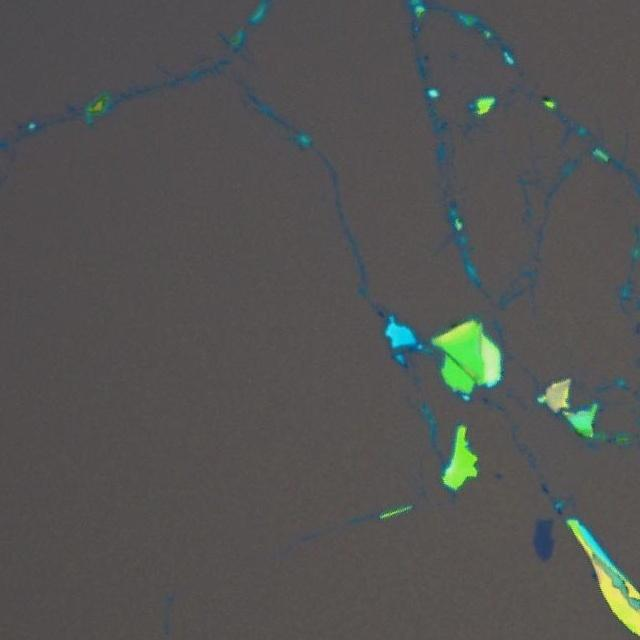monolayer-eWW4: (532, 517, 556, 561)
